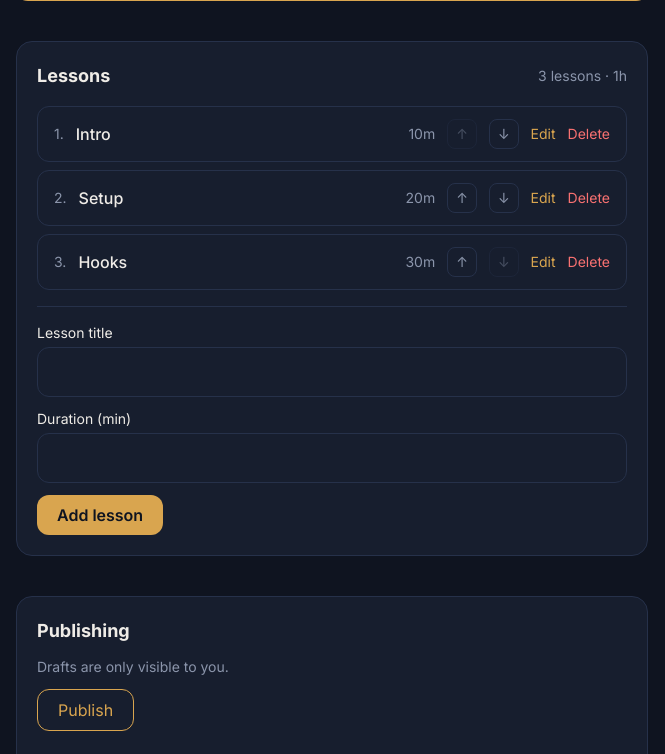
Scenario: CourseForm — lesson editor › adds a lesson through api.addLesson
(page scrolled)
Type "Deploy" into the field labelled "Lesson title" at coordinates (332, 372), box left=37, top=347, right=627, bottom=397
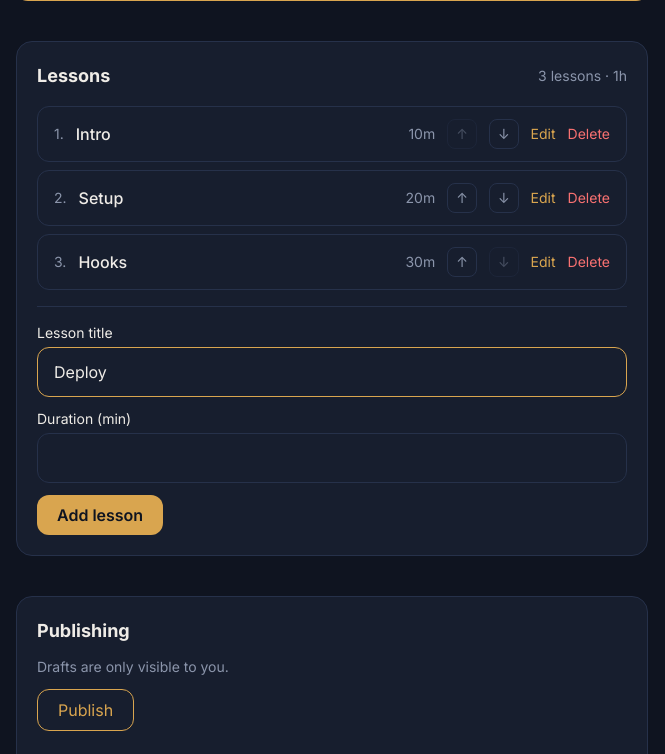
Type "15" into the number field labelled "Duration (min)" at coordinates (332, 458), box left=37, top=433, right=627, bottom=483
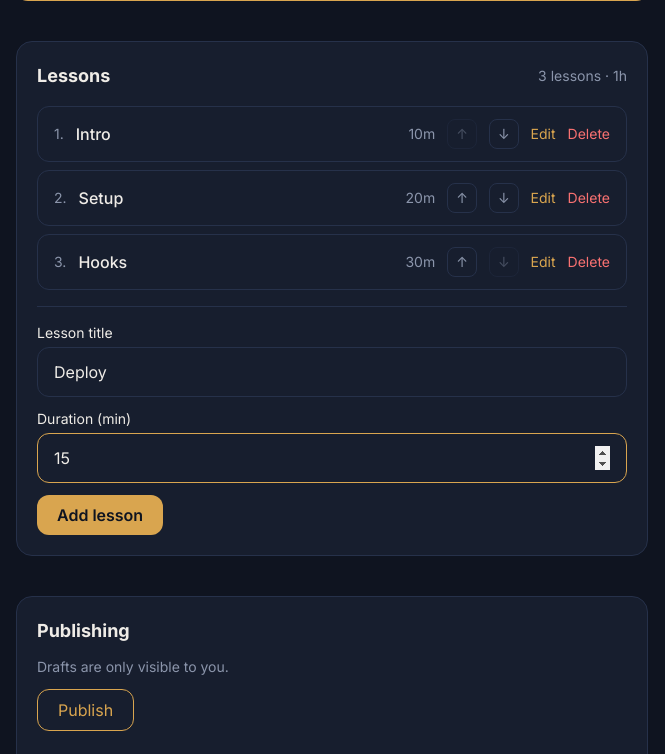
Click the button "Add lesson" at coordinates (100, 515), box left=37, top=495, right=163, bottom=535
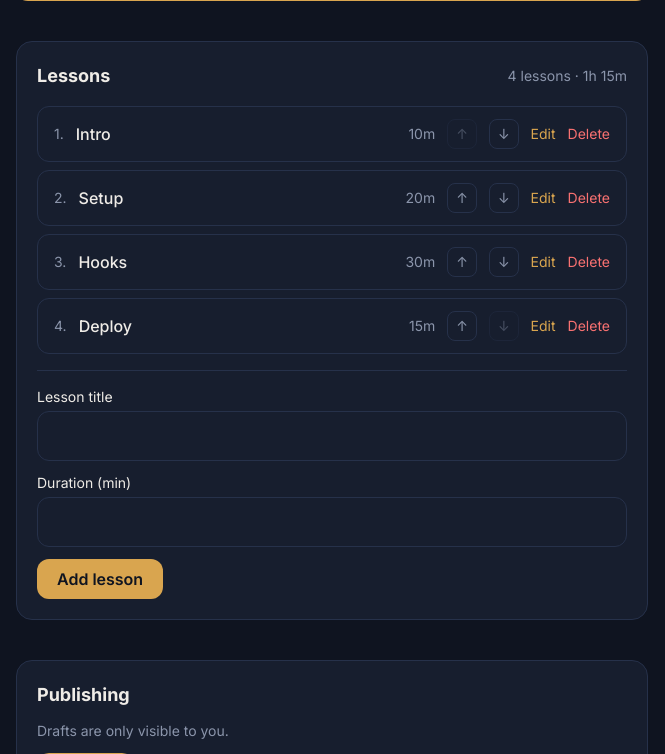
expect the text "Deploy" is shown: met, box left=79, top=316, right=132, bottom=336
